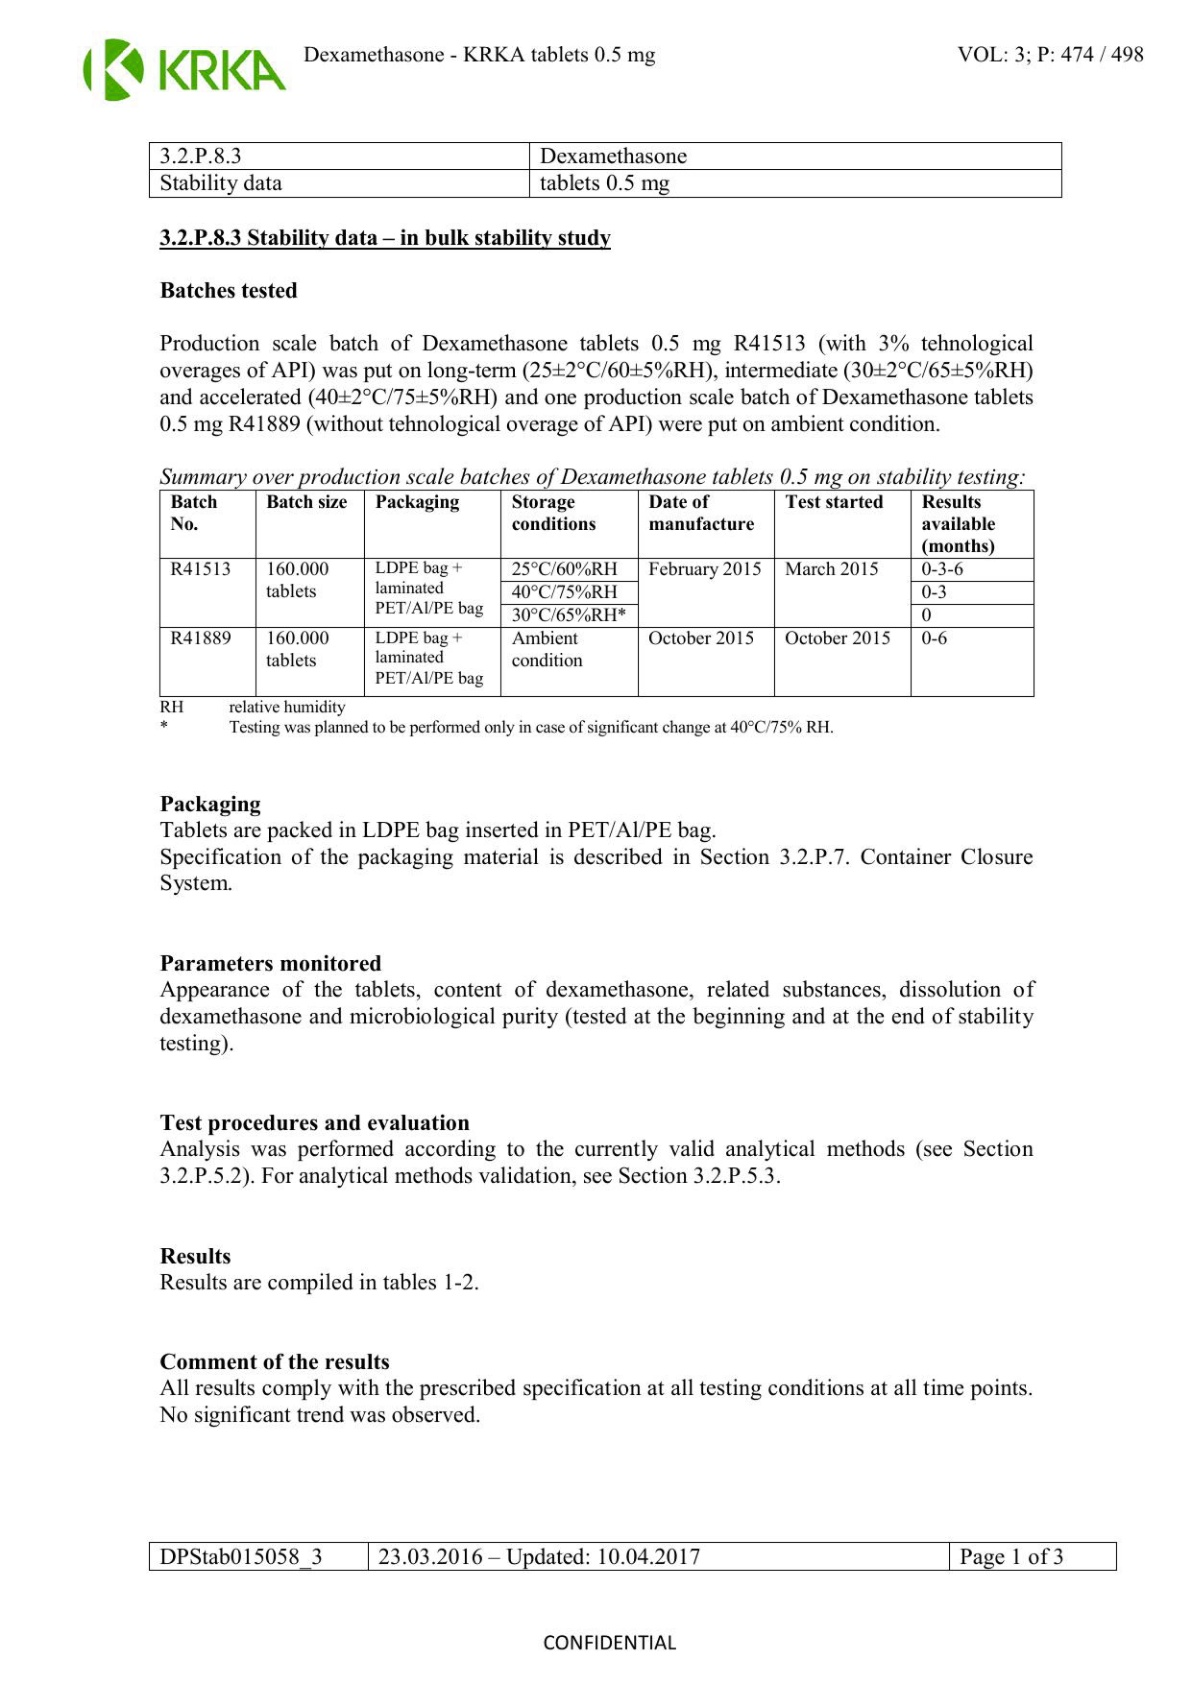full_lined: (148, 141, 1063, 199), (148, 1541, 1118, 1572)
merged_cells: (157, 489, 1035, 698)
